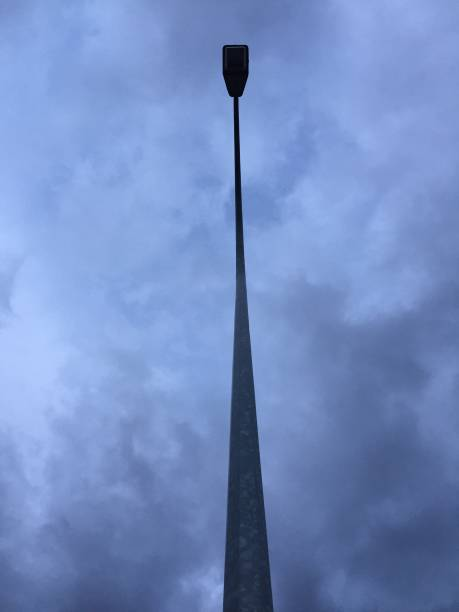light_pole: (222, 171, 272, 610)
